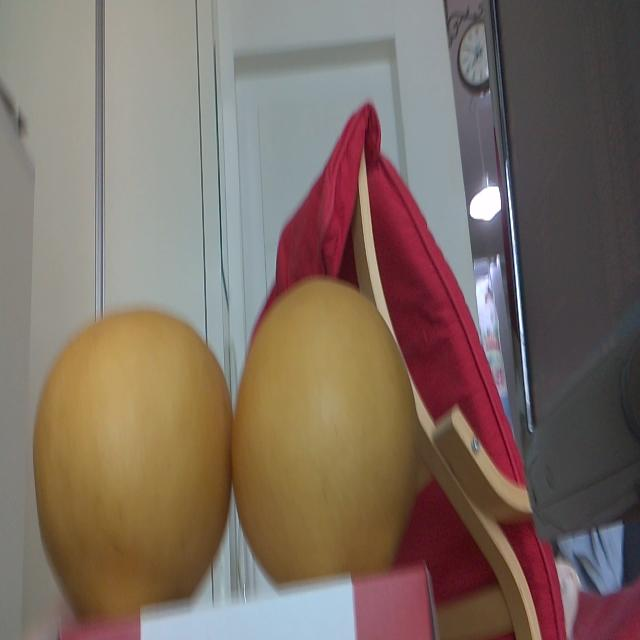pear: (32, 308, 233, 620), (232, 276, 418, 590)
